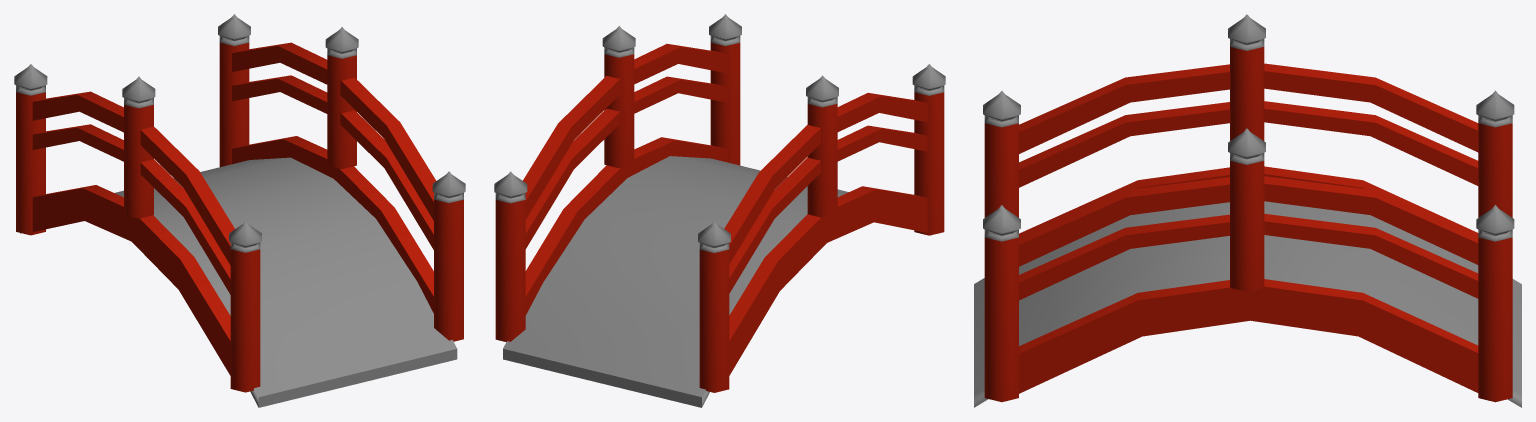
The model's file is m_bridge2.fbx.
3 views of the same model, side by side, from view 1: azimuth 30°, elevation 25°; view 2: azimuth 150°, elevation 25°; view 3: azimuth 270°, elevation 25° (orthographic). The views are drawn at different scales.
Visible parts, largest first — view 1: Bridge2; view 2: Bridge2; view 3: Bridge2.
Part boxes in pixels (box(x1,y1,x2,y2)): Bridge2: box(14, 14, 465, 407); Bridge2: box(494, 14, 945, 407); Bridge2: box(974, 14, 1521, 407).
Bounding box in the file's own units: 113 × 111 × 196.
